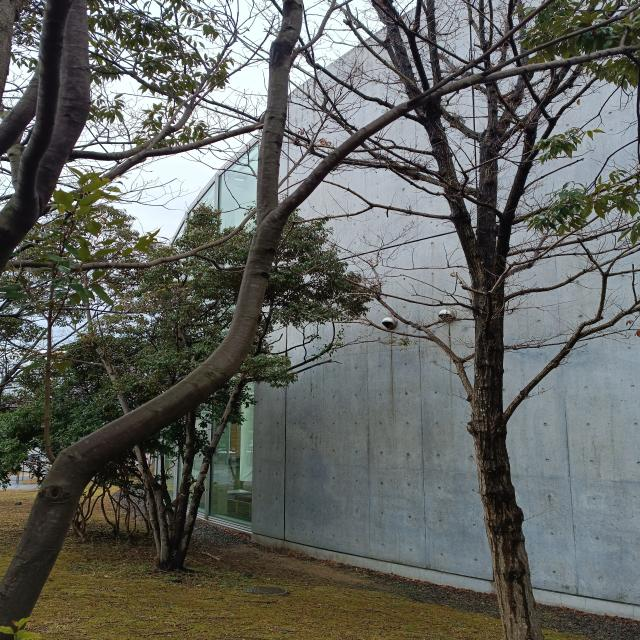Branch: (0, 204, 290, 625)
Twig: (278, 46, 632, 215), (480, 4, 640, 76), (430, 0, 555, 91), (257, 0, 303, 222)
